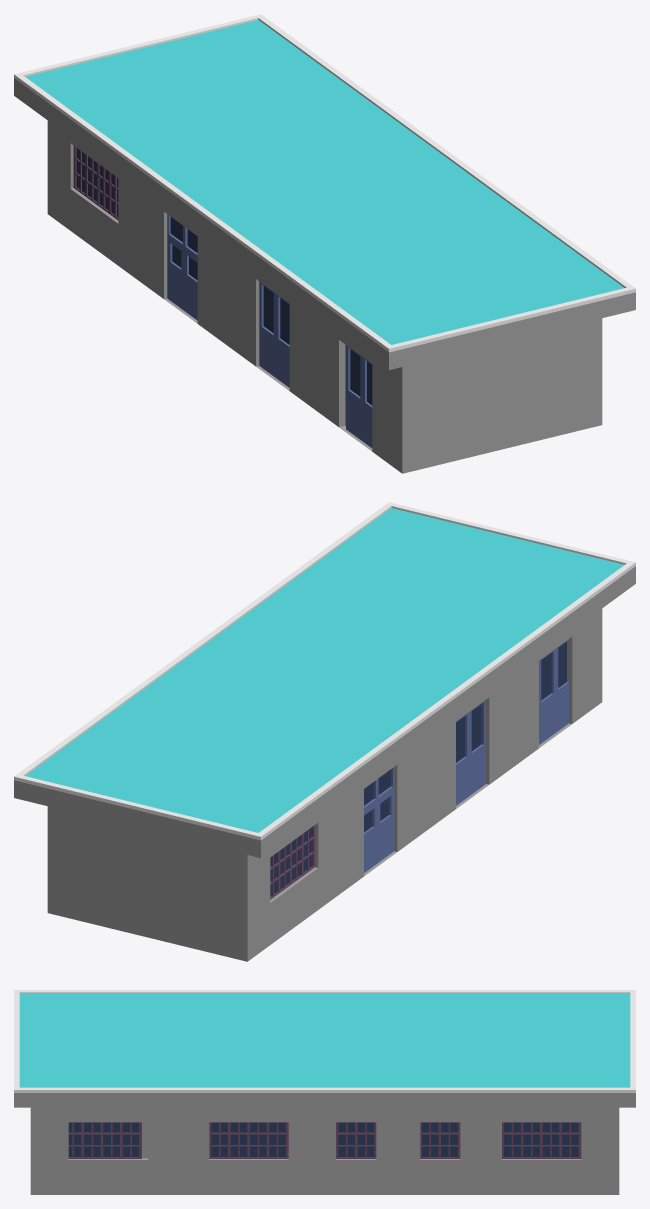
The model's file is Buildings_018.fbx.
The picture shows the model from 3 angles, top to bottom: view 1: azimuth 30°, elevation 25°; view 2: azimuth 150°, elevation 25°; view 3: azimuth 270°, elevation 25°; orthographic projection. The views are drawn at different scales.
Visible parts, largest first — view 1: Buildings.018; view 2: Buildings.018; view 3: Buildings.018.
Part boxes in pixels (x1,y1,x2,y2): Buildings.018: [14, 14, 635, 473]; Buildings.018: [14, 502, 635, 961]; Buildings.018: [14, 990, 635, 1194].
Bounding box in the file's own units: 8.99 × 4.81 × 23.66.
